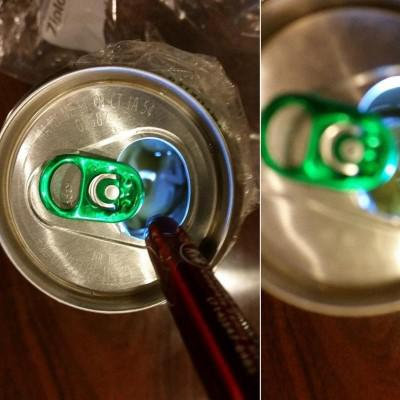beer: (1, 65, 240, 316)
